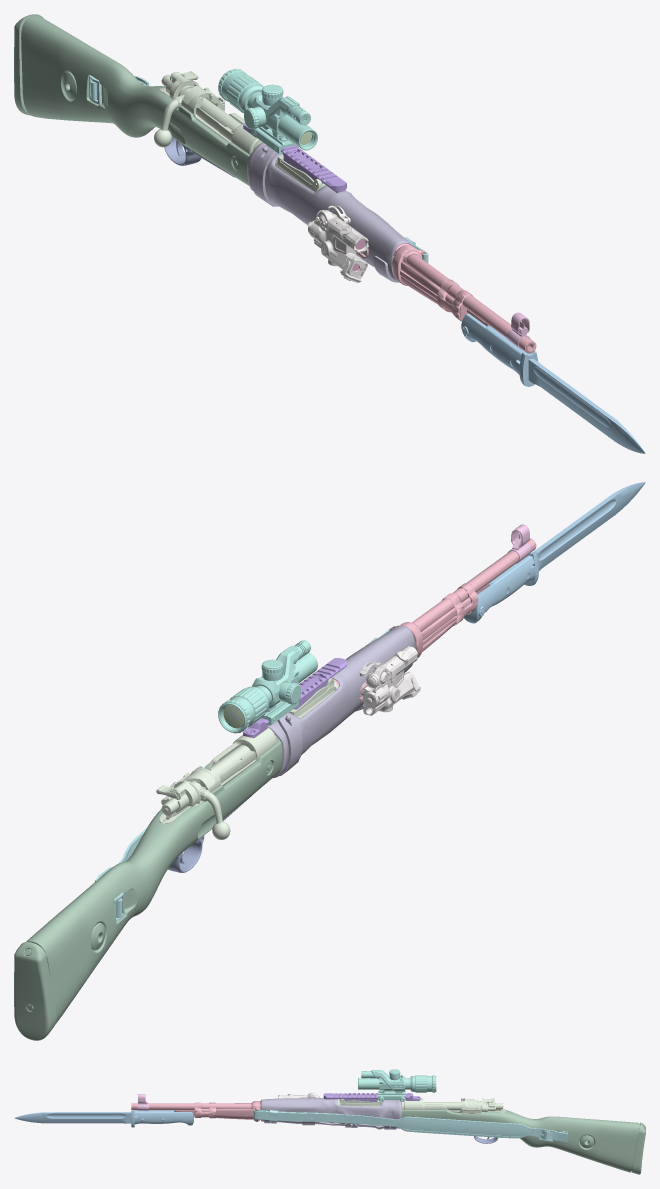
File: kar98k.fbx
3 views of the same model, one above another, from view 1: azimuth 30°, elevation 25°; view 2: azimuth 150°, elevation 25°; view 3: azimuth 270°, elevation 25° (orthographic). The views are drawn at different scales.
Visible parts, largest first — view 1: 98K.smd, blank; view 2: 98K.smd, blank; view 3: 98K.smd, blank.
Part boxes in pixels (<box>): 98K.smd: <box>14,14,645,453</box>; blank: <box>218,70,368,282</box>; 98K.smd: <box>14,482,645,1040</box>; blank: <box>218,642,420,733</box>; 98K.smd: <box>14,1069,645,1174</box>; blank: <box>278,1069,436,1101</box>.
Size of the model in its own units: 1079 by 3385 by 18822.
